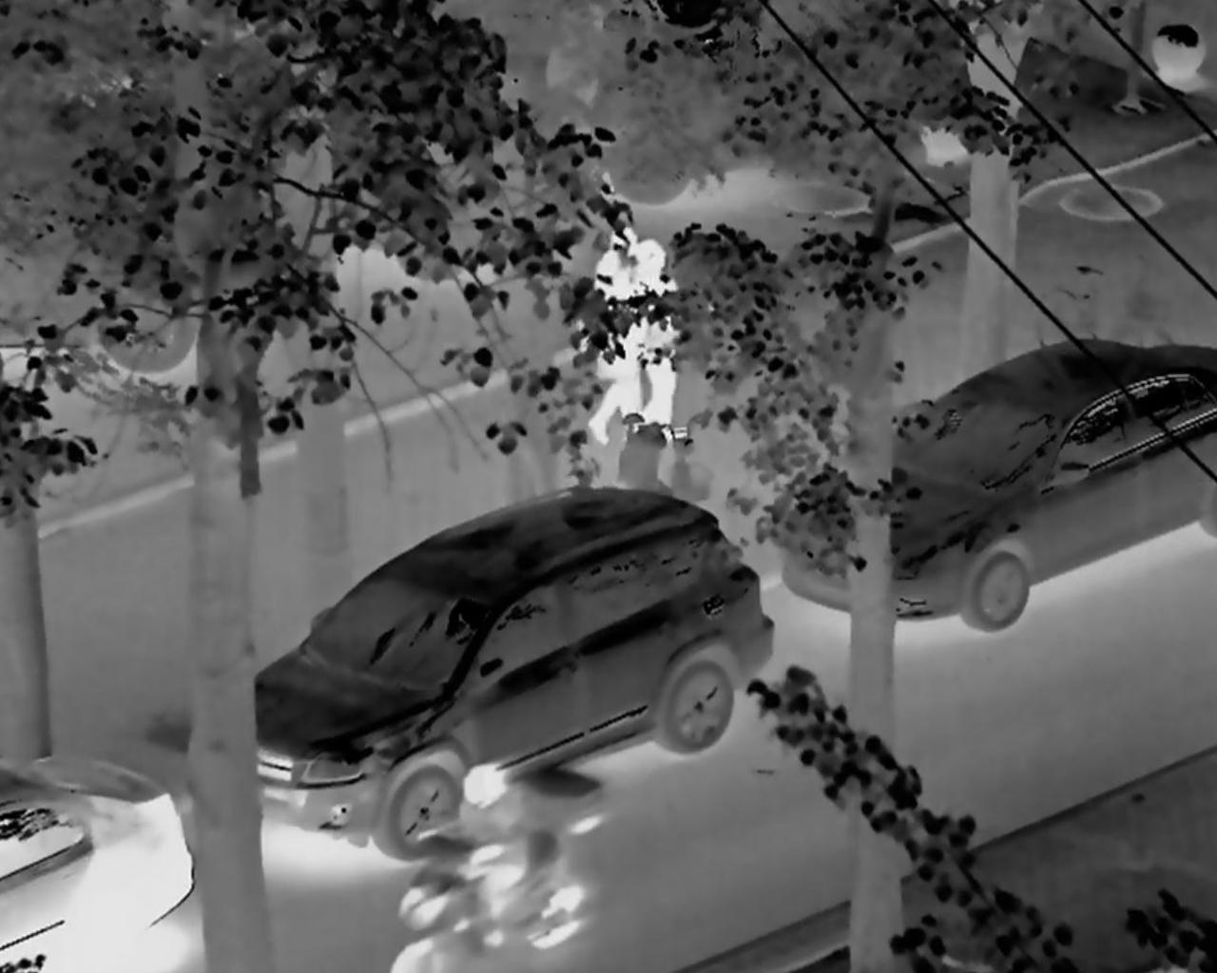person: (396, 763, 599, 967), (571, 217, 643, 448), (627, 235, 695, 456)
